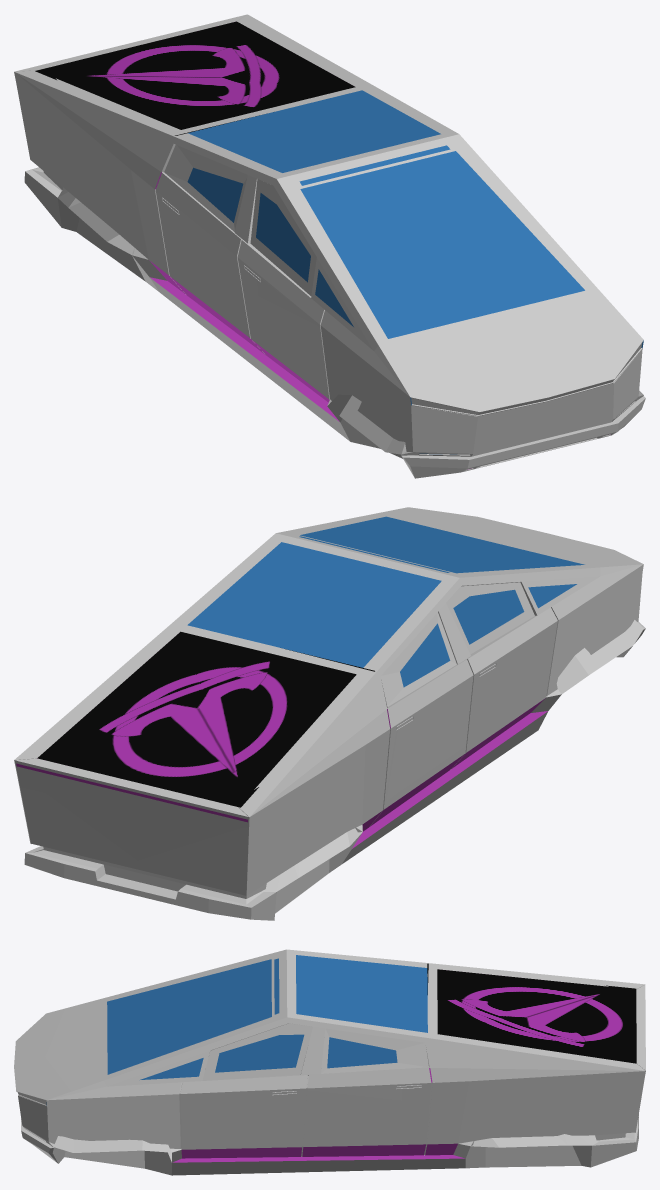
Rendered from TeslaGamesTruck2_purplechasis.obj.
3 views of the same model, one above another, from view 1: azimuth 30°, elevation 25°; view 2: azimuth 150°, elevation 25°; view 3: azimuth 270°, elevation 25° (orthographic). The views are drawn at different scales.
Parts seen in each view (by area): view 1: Cube.001_Cube.002, Plane.003; view 2: Cube.001_Cube.002, Plane.003; view 3: Cube.001_Cube.002, Plane.003.
Part boxes in pixels (left/top/right/bottom): Cube.001_Cube.002: left=14, top=14, right=645, bottom=478; Plane.003: left=35, top=21, right=355, bottom=135; Cube.001_Cube.002: left=14, top=507, right=645, bottom=920; Plane.003: left=37, top=631, right=374, bottom=807; Cube.001_Cube.002: left=14, top=949, right=645, bottom=1175; Plane.003: left=427, top=963, right=636, bottom=1063.
Bounding box in the file's own units: 7.06 × 5.58 × 20.36.
